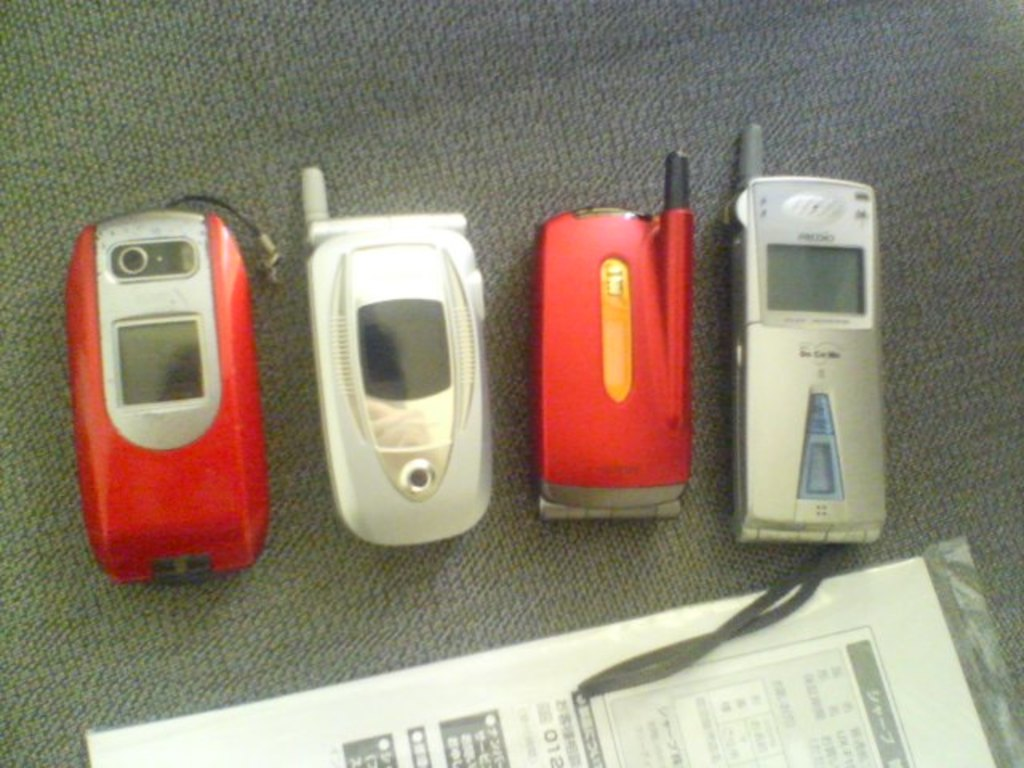mobile phone: (67, 187, 281, 591), (300, 169, 494, 547), (737, 121, 889, 540), (542, 145, 699, 532)
